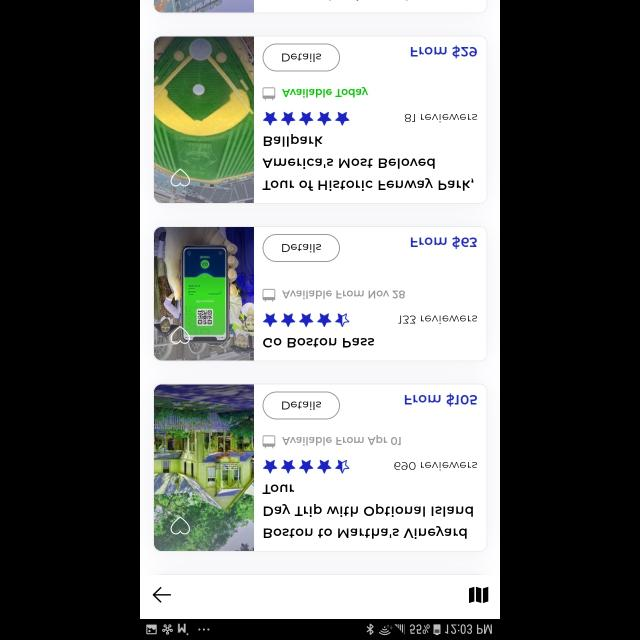icon: (262, 313, 350, 327), (262, 459, 350, 473), (262, 112, 350, 126), (171, 168, 191, 186), (171, 326, 191, 344), (171, 516, 191, 534), (152, 586, 172, 602), (468, 586, 488, 602), (262, 435, 276, 449), (262, 289, 276, 303), (262, 87, 276, 101)
image: (154, 37, 254, 203), (154, 384, 254, 550), (154, 226, 254, 360), (154, 0, 254, 12)
text: (262, 134, 473, 190), (262, 484, 473, 538), (283, 434, 402, 446), (282, 290, 406, 300), (264, 338, 374, 348), (282, 86, 368, 98), (411, 45, 477, 59), (404, 394, 478, 406), (411, 236, 477, 248), (394, 462, 478, 471), (398, 316, 478, 324), (404, 114, 478, 122)
textbutton: (263, 391, 341, 419), (263, 234, 341, 262), (263, 43, 341, 71)
uppertaskbar: (140, 618, 500, 640)
